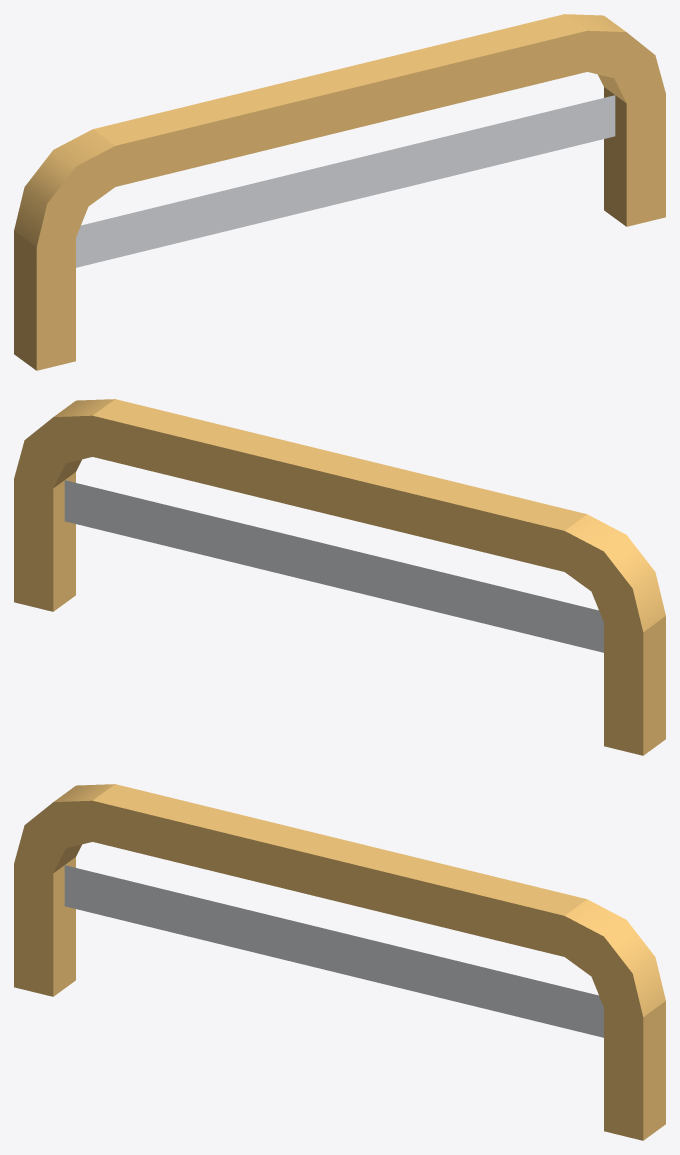
File: space_rail.glb
3 views of the same model, one above another, from view 1: azimuth 30°, elevation 25°; view 2: azimuth 150°, elevation 25°; view 3: azimuth 330°, elevation 25° (orthographic).
Visible parts, largest first — view 1: rail; view 2: rail; view 3: rail.
Boxes of the visible parts, left/top/right/bottom form: rail: left=14, top=14, right=665, bottom=370; rail: left=14, top=399, right=665, bottom=755; rail: left=14, top=784, right=665, bottom=1140.
Size of the model in its own units: 0.8 by 0.25 by 0.05.
